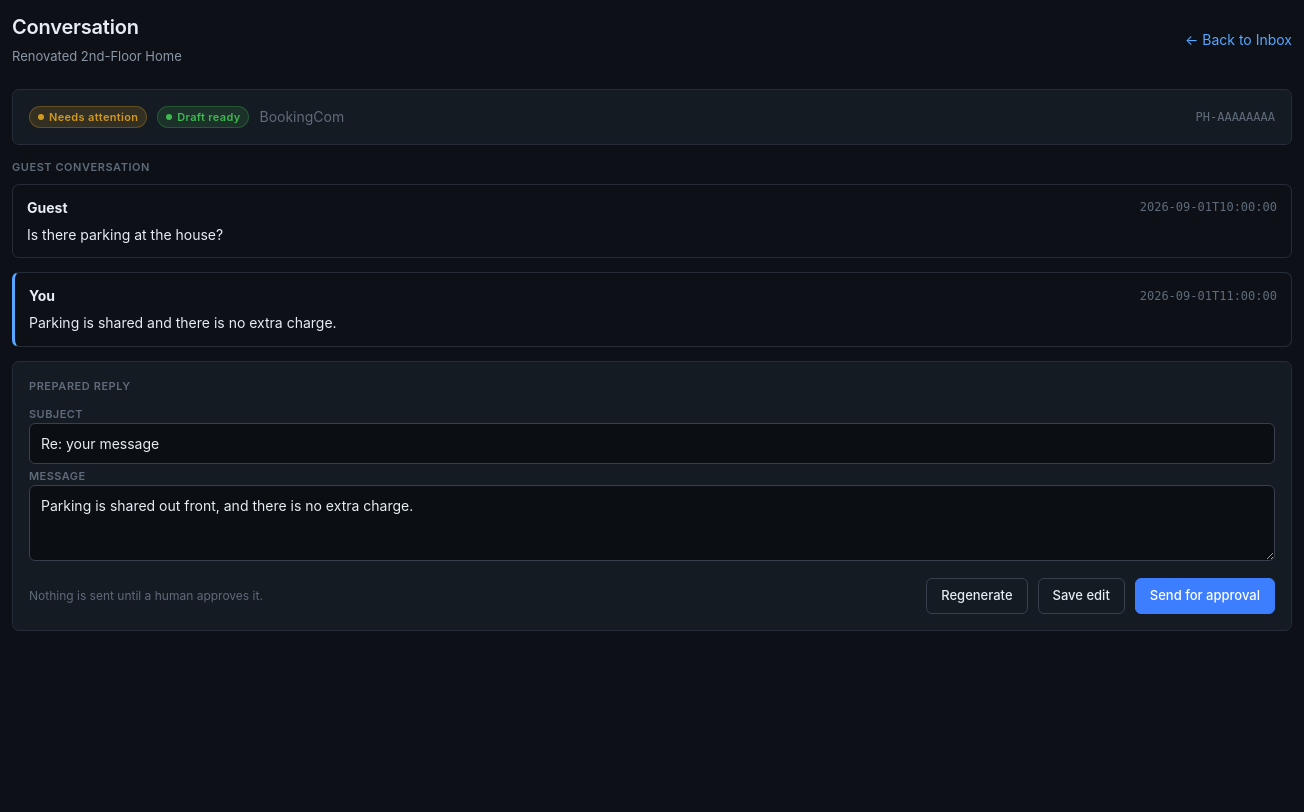
ConversationPage › asks for a regenerate when the server refuses a submission as stale
Check: the text "Is there parking at the house?" is shown, box [27,226,223,242]
Clear the text box labelled "Message". click: {"x": 652, "y": 523}
box: [29,485,1275,561]
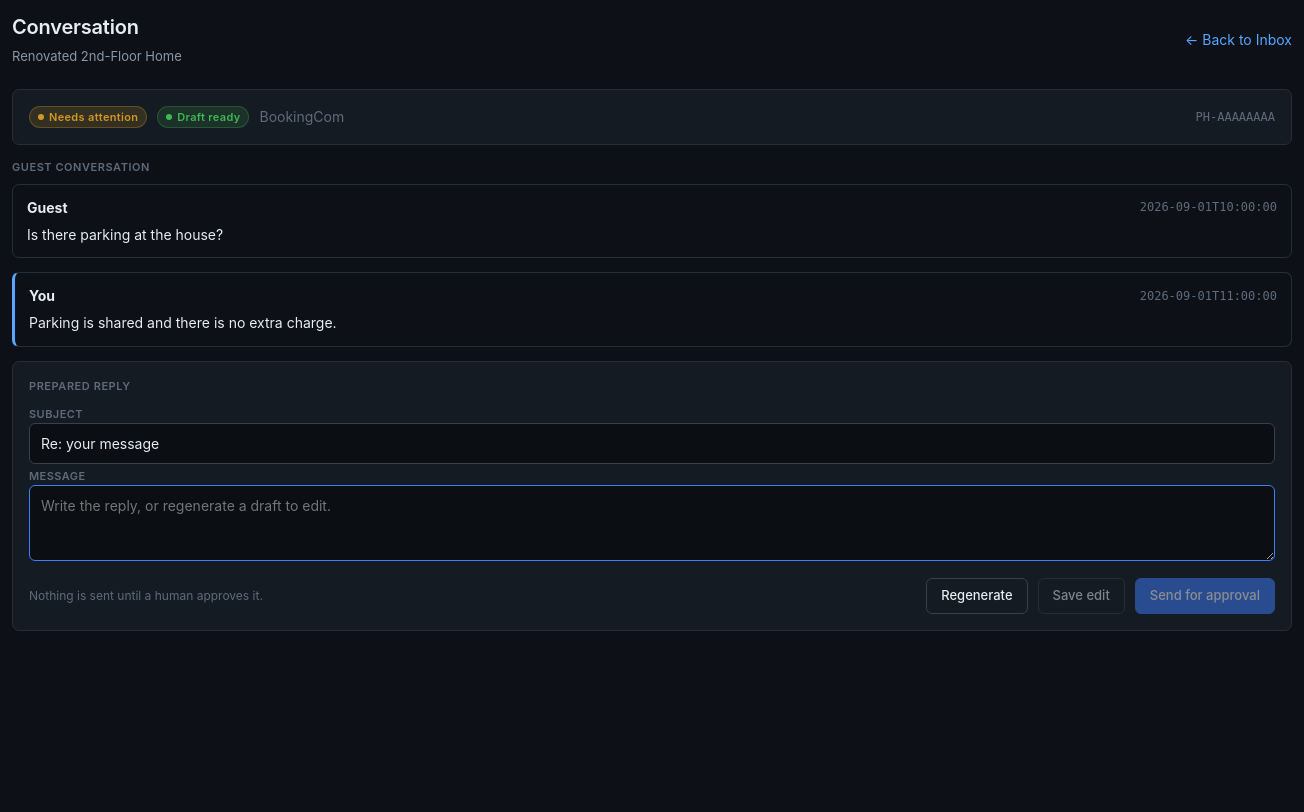
Replace the text in the field labelled "Subject" with "Thank you". click: {"x": 652, "y": 444}
box: [29,423,1275,464]
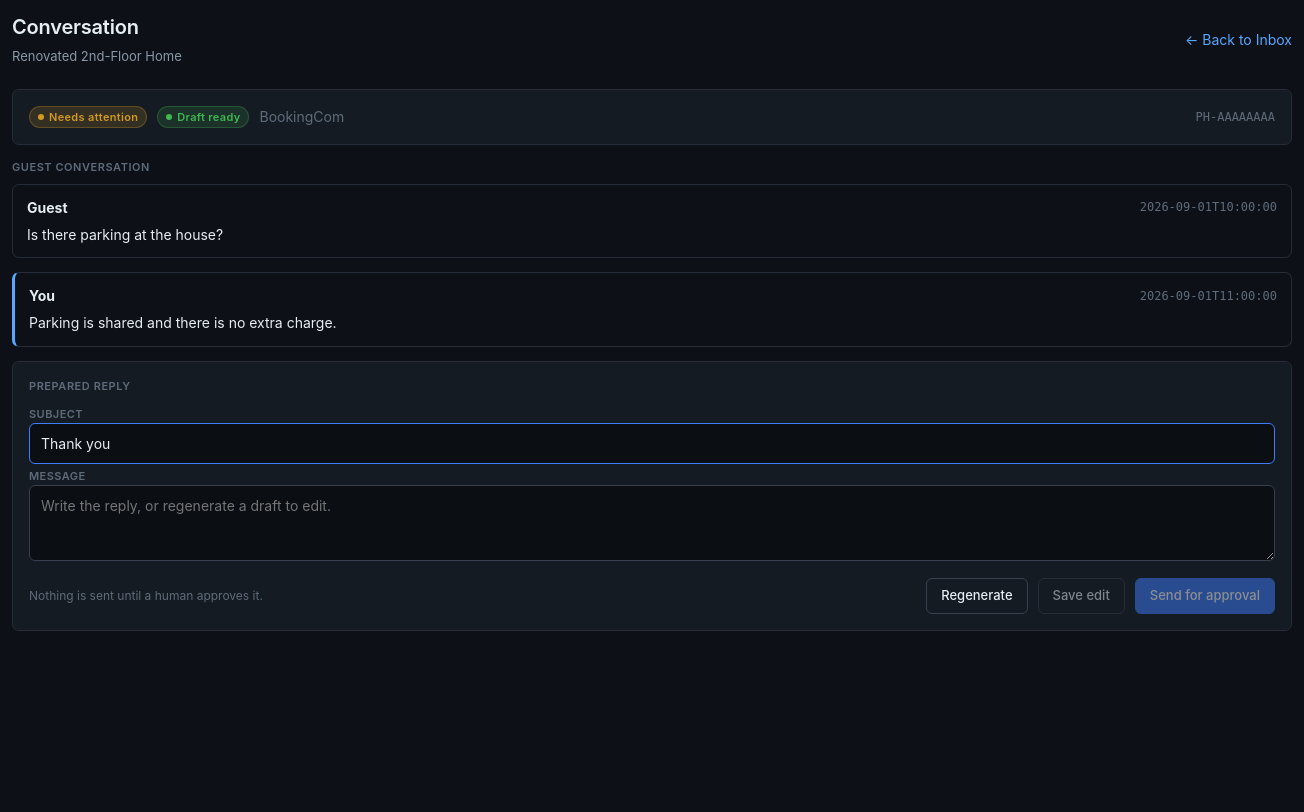
Type "Thank you for your question. I'll check and get back to you shortly." into the text box labelled "Message". click: {"x": 652, "y": 523}
box: [29,485,1275,561]
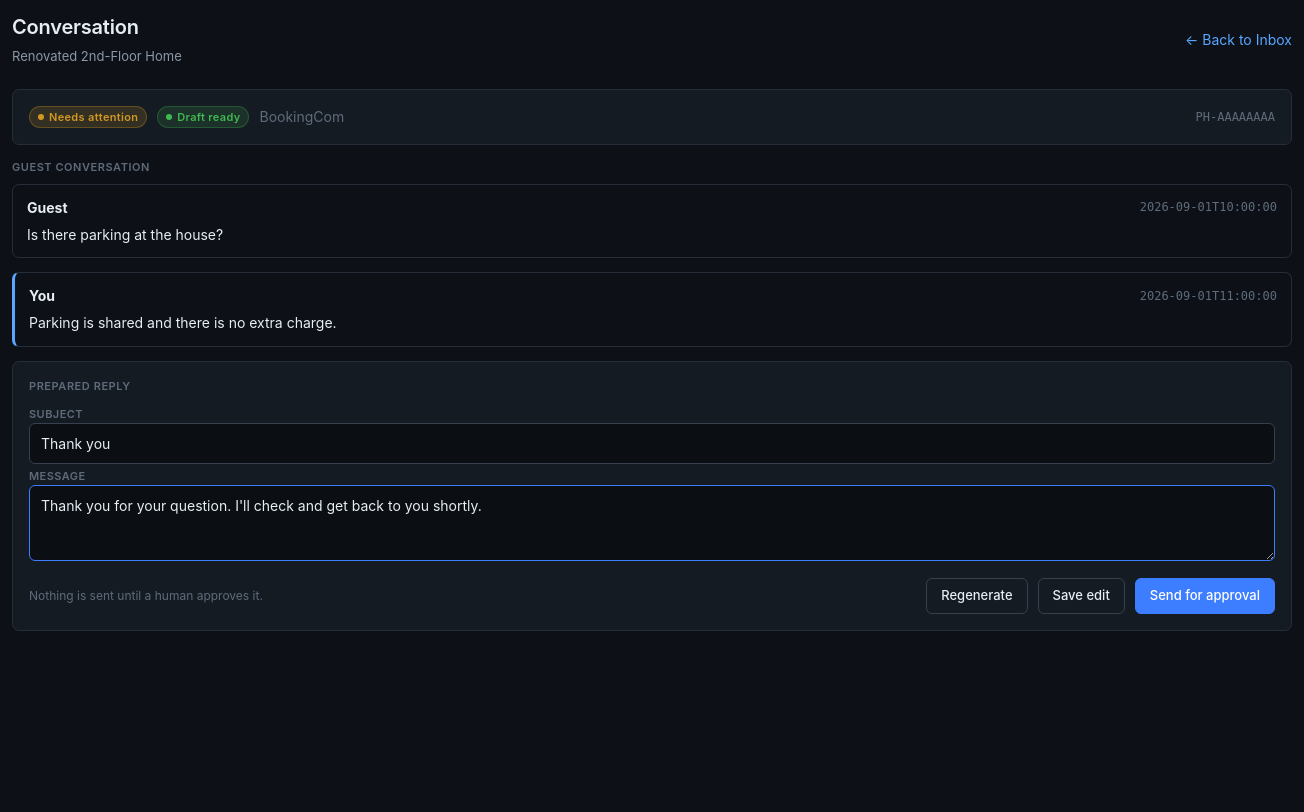
Click the button "Send for approval". click: {"x": 1205, "y": 596}
box: [1135,578,1275,614]
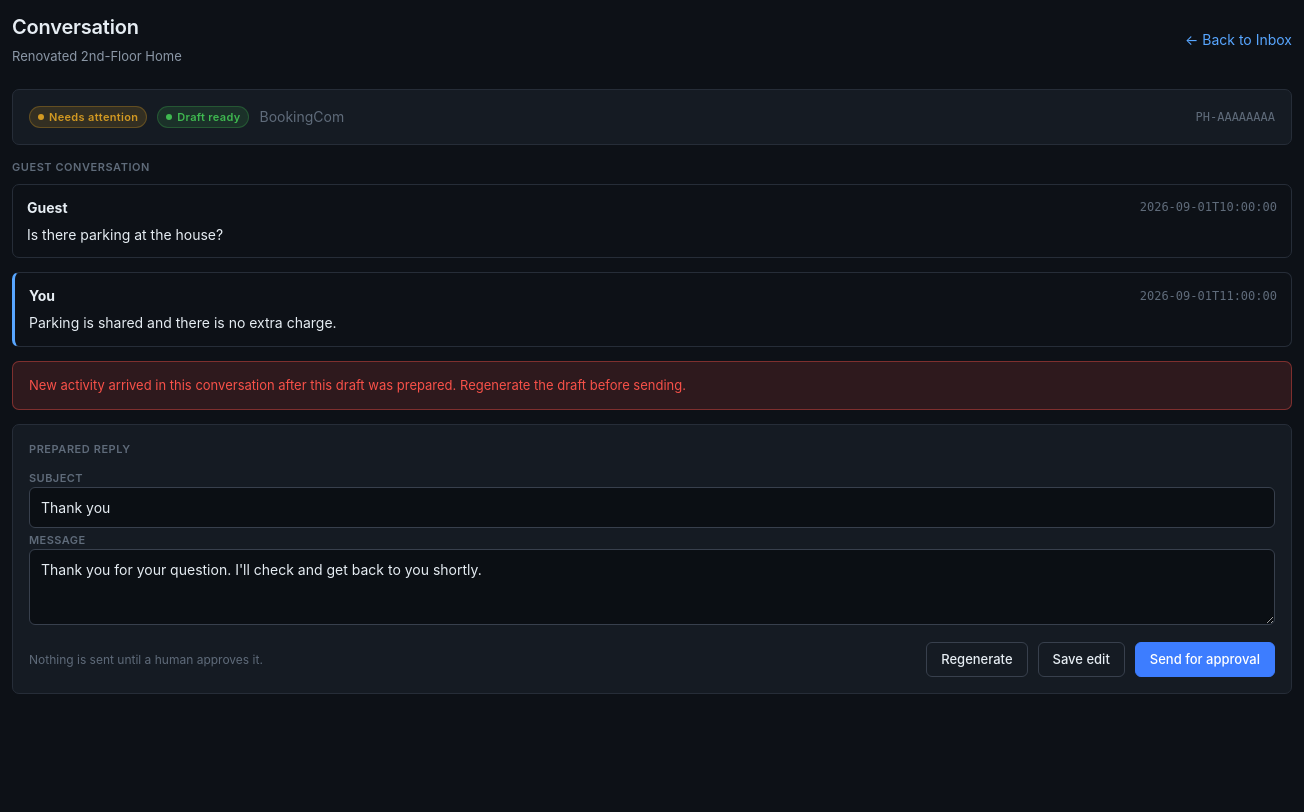
Check: the message shows "Regenerate the draft before sending", box [29,377,686,393]
